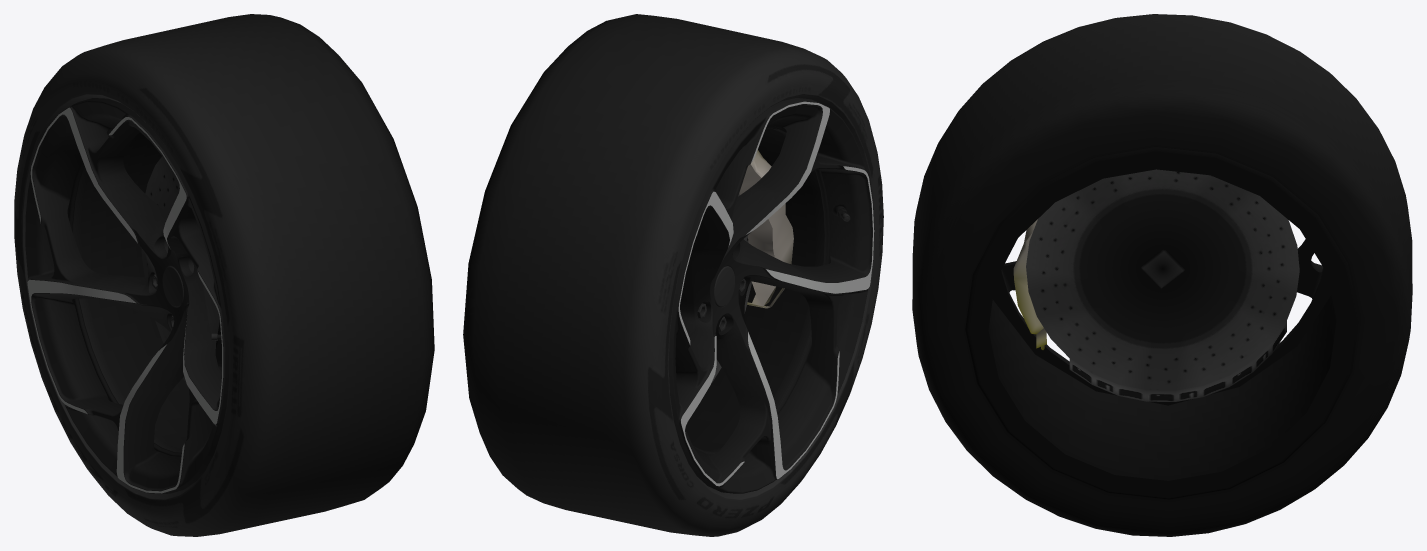
The model's file is wheels_rr.glb.
3 renders of one model, left to right at view 1: azimuth 30°, elevation 25°; view 2: azimuth 150°, elevation 25°; view 3: azimuth 270°, elevation 25°, orthographic.
Parts seen in each view (by area): view 1: polySurface642_McLaren_Elva_2021_Wheel1A_3D_3DWheel1A_Materi, polySurface612_McLaren_Elva_2021_Wheel1A_3D_3DWheel1A_Materi; view 2: polySurface642_McLaren_Elva_2021_Wheel1A_3D_3DWheel1A_Materi, polySurface612_McLaren_Elva_2021_Wheel1A_3D_3DWheel1A_Materi; view 3: polySurface612_McLaren_Elva_2021_Wheel1A_3D_3DWheel1A_Materi, polySurface642_McLaren_Elva_2021_Wheel1A_3D_3DWheel1A_Materi.
Boxes of the visible parts, x1,y1,x2,y2 form: polySurface642_McLaren_Elva_2021_Wheel1A_3D_3DWheel1A_Materi: (14,14,434,536); polySurface612_McLaren_Elva_2021_Wheel1A_3D_3DWheel1A_Materi: (25,98,228,493); polySurface642_McLaren_Elva_2021_Wheel1A_3D_3DWheel1A_Materi: (463,14,883,536); polySurface612_McLaren_Elva_2021_Wheel1A_3D_3DWheel1A_Materi: (668,98,874,493); polySurface612_McLaren_Elva_2021_Wheel1A_3D_3DWheel1A_Materi: (965,147,1359,499); polySurface642_McLaren_Elva_2021_Wheel1A_3D_3DWheel1A_Materi: (912,14,1412,536).
Size of the model in its own units: 0.00329 by 0.00695 by 0.00691.
Materials: 2 (1 with a texture image).
